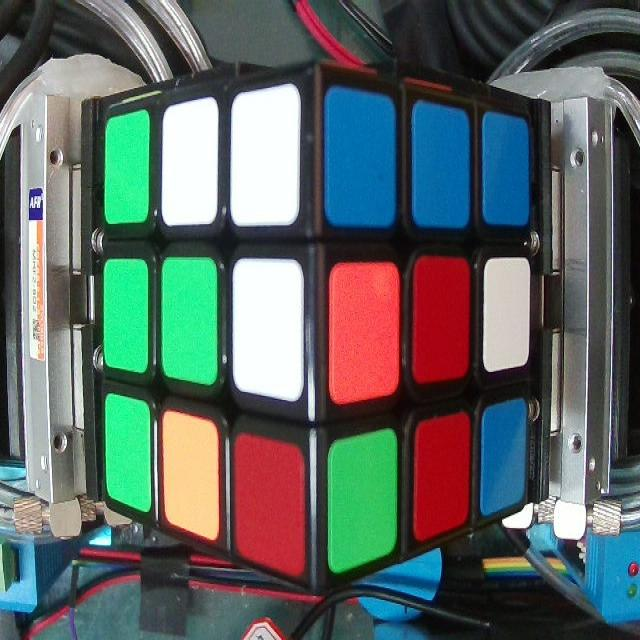b: (325, 91, 393, 232), (412, 100, 470, 225), (487, 112, 531, 227), (485, 404, 525, 505)
g: (330, 435, 401, 564), (161, 264, 217, 383), (102, 392, 150, 508), (108, 263, 150, 373), (104, 120, 145, 227)
o: (330, 264, 399, 403), (162, 413, 219, 535)
r: (237, 440, 305, 565), (415, 259, 469, 384), (416, 426, 471, 534)
w: (235, 261, 298, 400), (234, 94, 291, 218), (164, 101, 216, 224), (486, 261, 531, 371)
